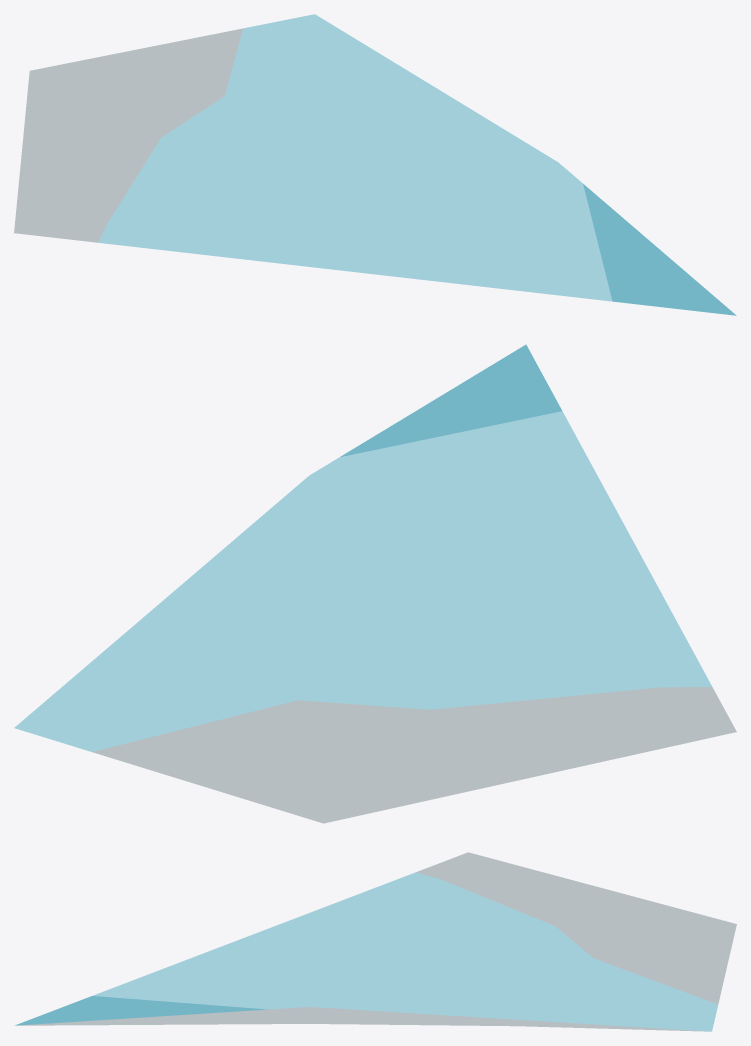
The model's file is su33_surf_BElevatorRFold_fold.gltf.
3 views of the same model, one above another, from view 1: azimuth 30°, elevation 25°; view 2: azimuth 150°, elevation 25°; view 3: azimuth 270°, elevation 25° (orthographic). The views are drawn at different scales.
Visible parts, largest first — view 1: 0_1_#73cdec, 0_2_#bacdd8, 0_0_#3396bb; view 2: 0_1_#73cdec, 0_2_#bacdd8, 0_0_#3396bb; view 3: 0_1_#73cdec, 0_2_#bacdd8, 0_0_#3396bb.
Boxes of the visible parts, left/top/right/bottom form: 0_1_#73cdec: left=98, top=14, right=612, bottom=301; 0_2_#bacdd8: left=14, top=28, right=242, bottom=242; 0_0_#3396bb: left=583, top=184, right=736, bottom=315; 0_1_#73cdec: left=14, top=411, right=712, bottom=751; 0_2_#bacdd8: left=92, top=687, right=736, bottom=823; 0_0_#3396bb: left=340, top=344, right=562, bottom=456; 0_1_#73cdec: left=92, top=872, right=717, bottom=1031; 0_2_#bacdd8: left=18, top=852, right=736, bottom=1031; 0_0_#3396bb: left=15, top=996, right=267, bottom=1025.
Bounding box in the file's own units: 1.27 × 0.0857 × 2.14.
